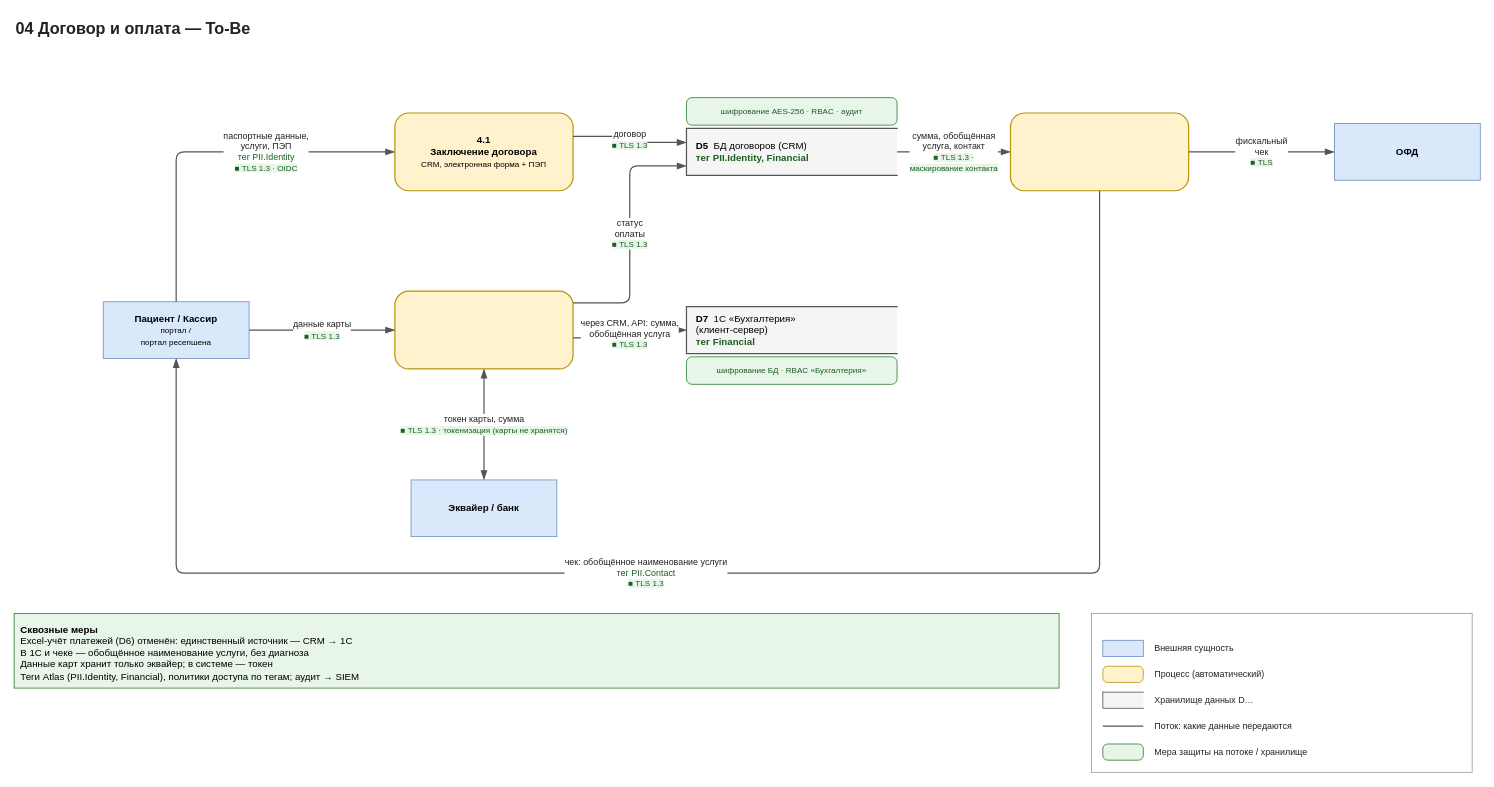
Image size: 1494x787. Some labels were removed from this diagram. The box of each missing label's shape, as (x1, y1, x2, y2) in pixels:
4.2 Оплата Платёжный шлюз: (394, 290, 573, 369)
4.3 Фискализация чека онлайн-касса платёжного шлюза: (1010, 112, 1189, 191)
Легенда: (1091, 613, 1472, 772)
